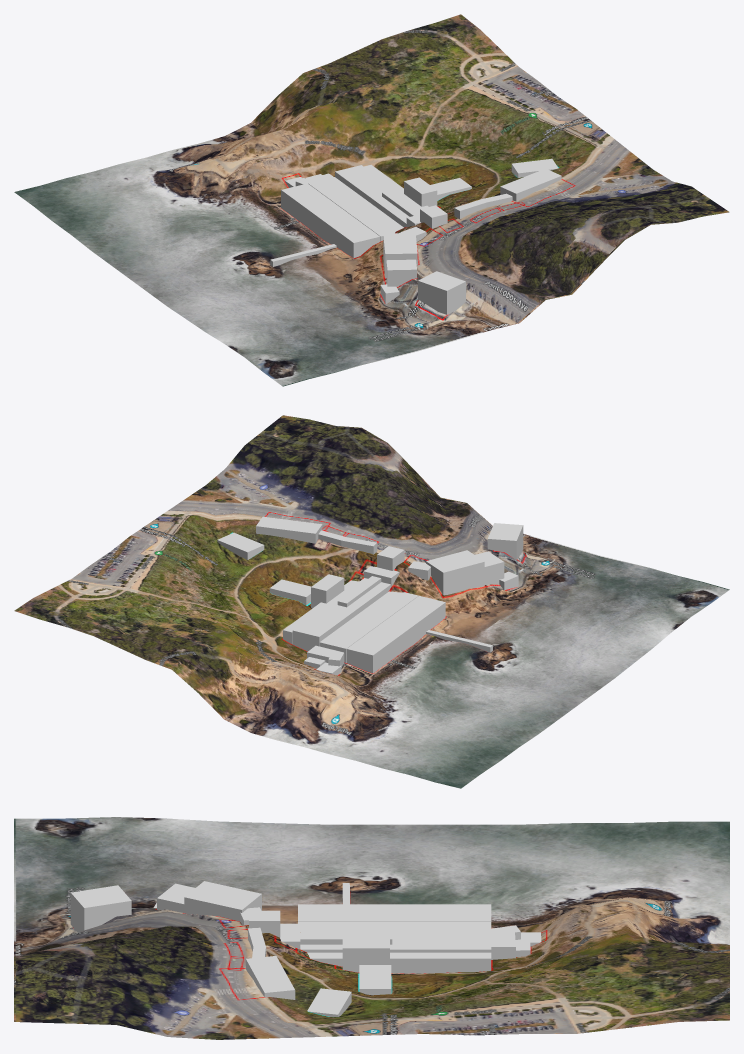
File: sutro_terrain.fbx
The picture shows the model from 3 angles, top to bottom: view 1: azimuth 30°, elevation 25°; view 2: azimuth 150°, elevation 25°; view 3: azimuth 270°, elevation 25°; orthographic projection. The views are drawn at different scales.
Visible parts, largest first — view 1: Terrain, Cube.001, Cube.002, Cube.003, Cube.010, Cube.011, Cube.009, Cube.016, Cube.005; view 2: Terrain, Cube.001, Cube.003, Cube.002, Cube.009, Cube.011, Cube.010, Cube.005, Cube.019, Cube.018, Cube.016; view 3: Terrain, Cube.001, Cube.003, Cube.004, Cube.009, Cube.010, Cube.002, Cube.011, Cube.005, Cube.018, Cube.019, Cube.006 (+4 smaller).
Part boxes in pixels (x1,y1,x2,y2): Terrain: (14, 14, 729, 386); Cube.001: (281, 183, 380, 258); Cube.002: (308, 177, 403, 241); Cube.003: (335, 165, 420, 227); Cube.010: (418, 271, 465, 314); Cube.011: (500, 168, 561, 201); Cube.009: (383, 233, 417, 278); Cube.016: (386, 259, 416, 286); Cube.005: (404, 177, 437, 206); Terrain: (14, 415, 729, 788); Cube.001: (346, 595, 445, 673); Cube.003: (292, 578, 390, 651); Cube.002: (319, 591, 418, 662); Cube.009: (426, 550, 484, 595); Cube.011: (256, 516, 322, 543); Cube.010: (487, 523, 523, 559); Cube.005: (311, 574, 344, 608); Cube.019: (217, 532, 264, 559); Cube.018: (269, 579, 310, 605); Cube.016: (475, 551, 504, 584); Terrain: (14, 817, 729, 1039); Cube.001: (298, 904, 491, 921); Cube.003: (300, 932, 491, 952); Cube.004: (307, 952, 491, 973); Cube.009: (184, 881, 261, 921); Cube.010: (70, 885, 131, 932); Cube.002: (298, 922, 491, 932); Cube.011: (245, 956, 295, 999); Cube.005: (342, 938, 389, 972); Cube.018: (359, 965, 391, 995); Cube.019: (307, 988, 351, 1016); Cube.006: (300, 933, 392, 944).
Size of the model in its own units: 41549 by 6957 by 43291.
